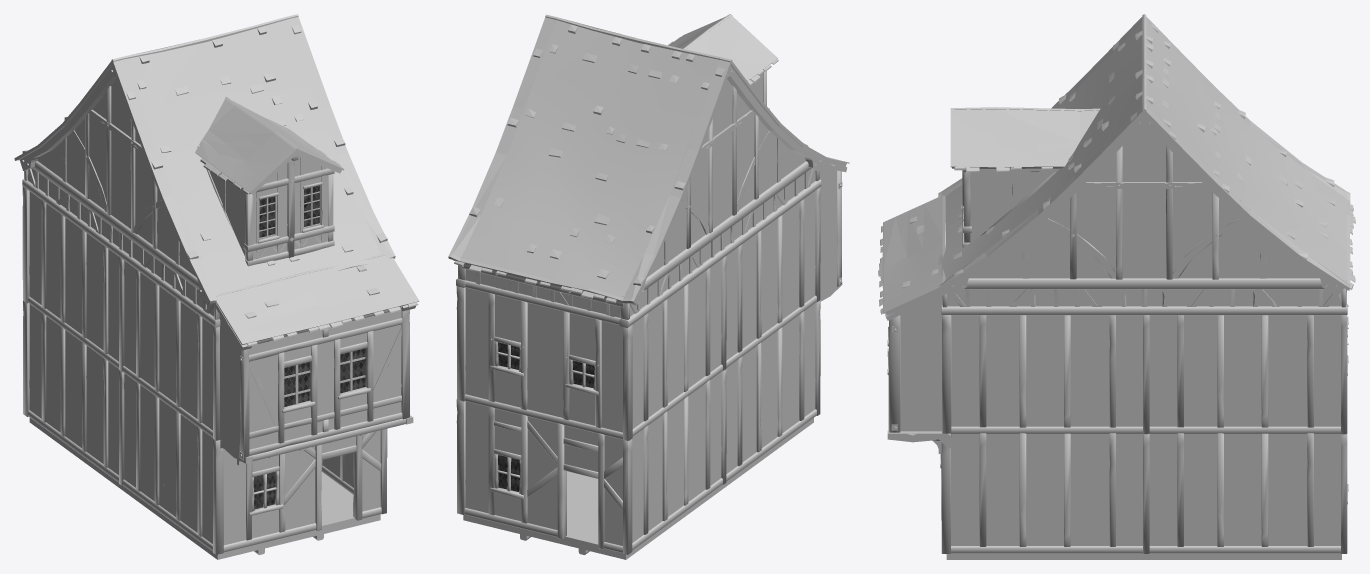
The model's file is House_1.fbx.
3 views of the same model, side by side, from view 1: azimuth 30°, elevation 25°; view 2: azimuth 150°, elevation 25°; view 3: azimuth 270°, elevation 25° (orthographic). The views are drawn at different scales.
Visible parts, largest first — view 1: StaticMeshComponent015, StaticMeshComponent02, StaticMeshComponent010, StaticMeshComponent01, StaticMeshComponent013, StaticMeshComponent012, StaticMeshComponent014, StaticMeshComponent011, StaticMeshComponent09, StaticMeshComponent016, StaticMeshComponent0, StaticMeshComponent07 (+2 smaller); view 2: StaticMeshComponent08, StaticMeshComponent010, StaticMeshComponent07, StaticMeshComponent06, StaticMeshComponent012, StaticMeshComponent013, StaticMeshComponent011, StaticMeshComponent014, StaticMeshComponent017, StaticMeshComponent015, StaticMeshComponent09, StaticMeshComponent02 (+3 smaller); view 3: StaticMeshComponent09, StaticMeshComponent05, StaticMeshComponent0, StaticMeshComponent04, StaticMeshComponent03, StaticMeshComponent015, StaticMeshComponent08, StaticMeshComponent02, StaticMeshComponent010, StaticMeshComponent016, StaticMeshComponent017, StaticMeshComponent01.
Part boxes in pixels (x1,y1,x2,y2): StaticMeshComponent015: (123,17,380,293); StaticMeshComponent02: (213,254,419,465); StaticMeshComponent010: (14,56,220,327); StaticMeshComponent01: (223,428,387,552); StaticMeshComponent013: (122,373,223,554); StaticMeshComponent012: (28,304,124,485); StaticMeshComponent014: (122,261,220,440); StaticMeshComponent011: (28,191,124,371); StaticMeshComponent09: (287,14,395,258); StaticMeshComponent016: (123,472,380,559); StaticMeshComponent0: (322,452,353,494); StaticMeshComponent07: (22,186,29,303); StaticMeshComponent08: (454,17,719,324); StaticMeshComponent010: (619,57,828,327); StaticMeshComponent07: (464,287,632,440); StaticMeshComponent06: (464,401,632,554); StaticMeshComponent012: (632,369,726,550); StaticMeshComponent013: (726,300,820,481); StaticMeshComponent011: (632,256,726,436); StaticMeshComponent014: (726,187,820,367); StaticMeshComponent017: (463,471,719,559); StaticMeshComponent015: (571,14,778,105); StaticMeshComponent09: (448,14,556,287); StaticMeshComponent02: (819,157,849,301); StaticMeshComponent09: (938,103,1350,315); StaticMeshComponent05: (1149,433,1347,553); StaticMeshComponent0: (951,433,1149,553); StaticMeshComponent04: (1149,315,1347,434); StaticMeshComponent03: (951,315,1149,434); StaticMeshComponent015: (938,20,1144,279); StaticMeshComponent08: (1144,20,1355,303); StaticMeshComponent02: (878,195,951,453); StaticMeshComponent010: (938,14,1350,200); StaticMeshComponent016: (946,553,1144,559); StaticMeshComponent017: (1144,553,1341,559); StaticMeshComponent01: (940,433,950,554).
Size of the model in its own units: 683 by 1550 by 1449.
